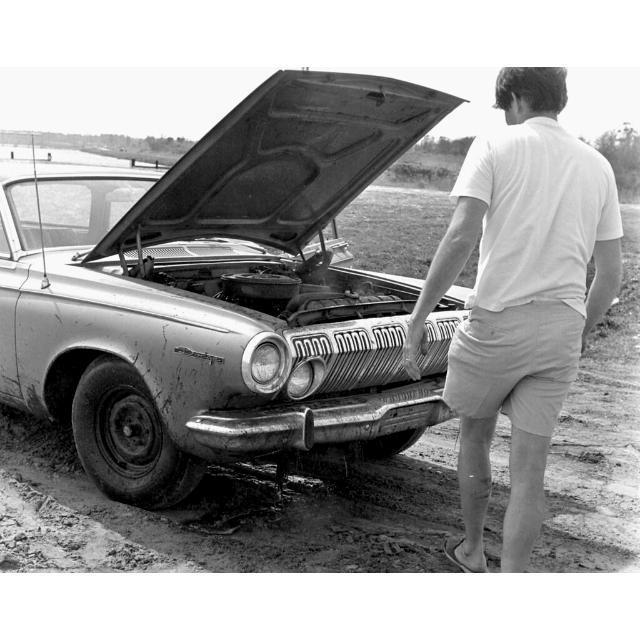fender-dent: (27, 282, 253, 425)
front-bumper-dent: (262, 346, 492, 459)
